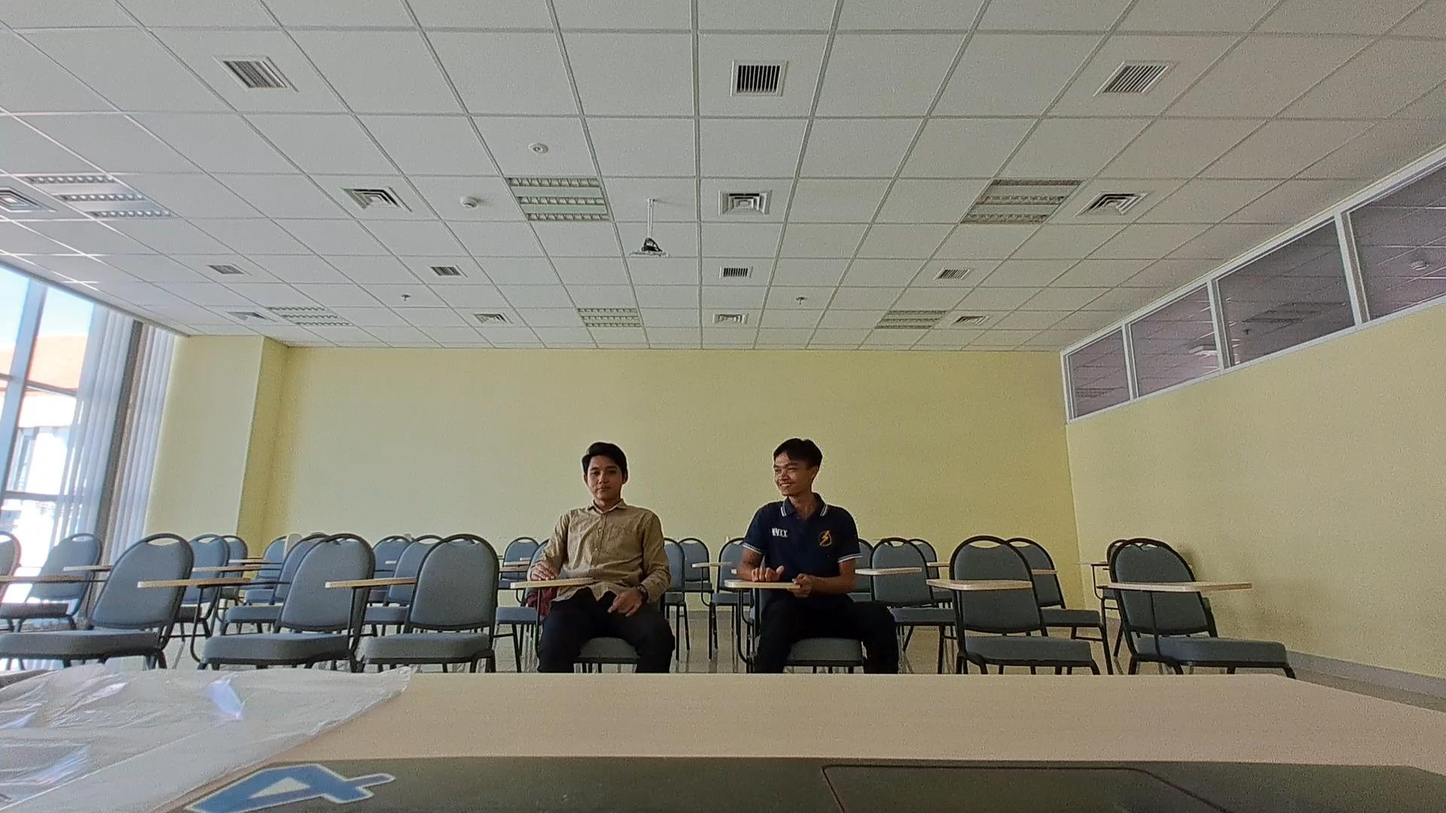study: (529, 437, 683, 674), (736, 437, 887, 664)
